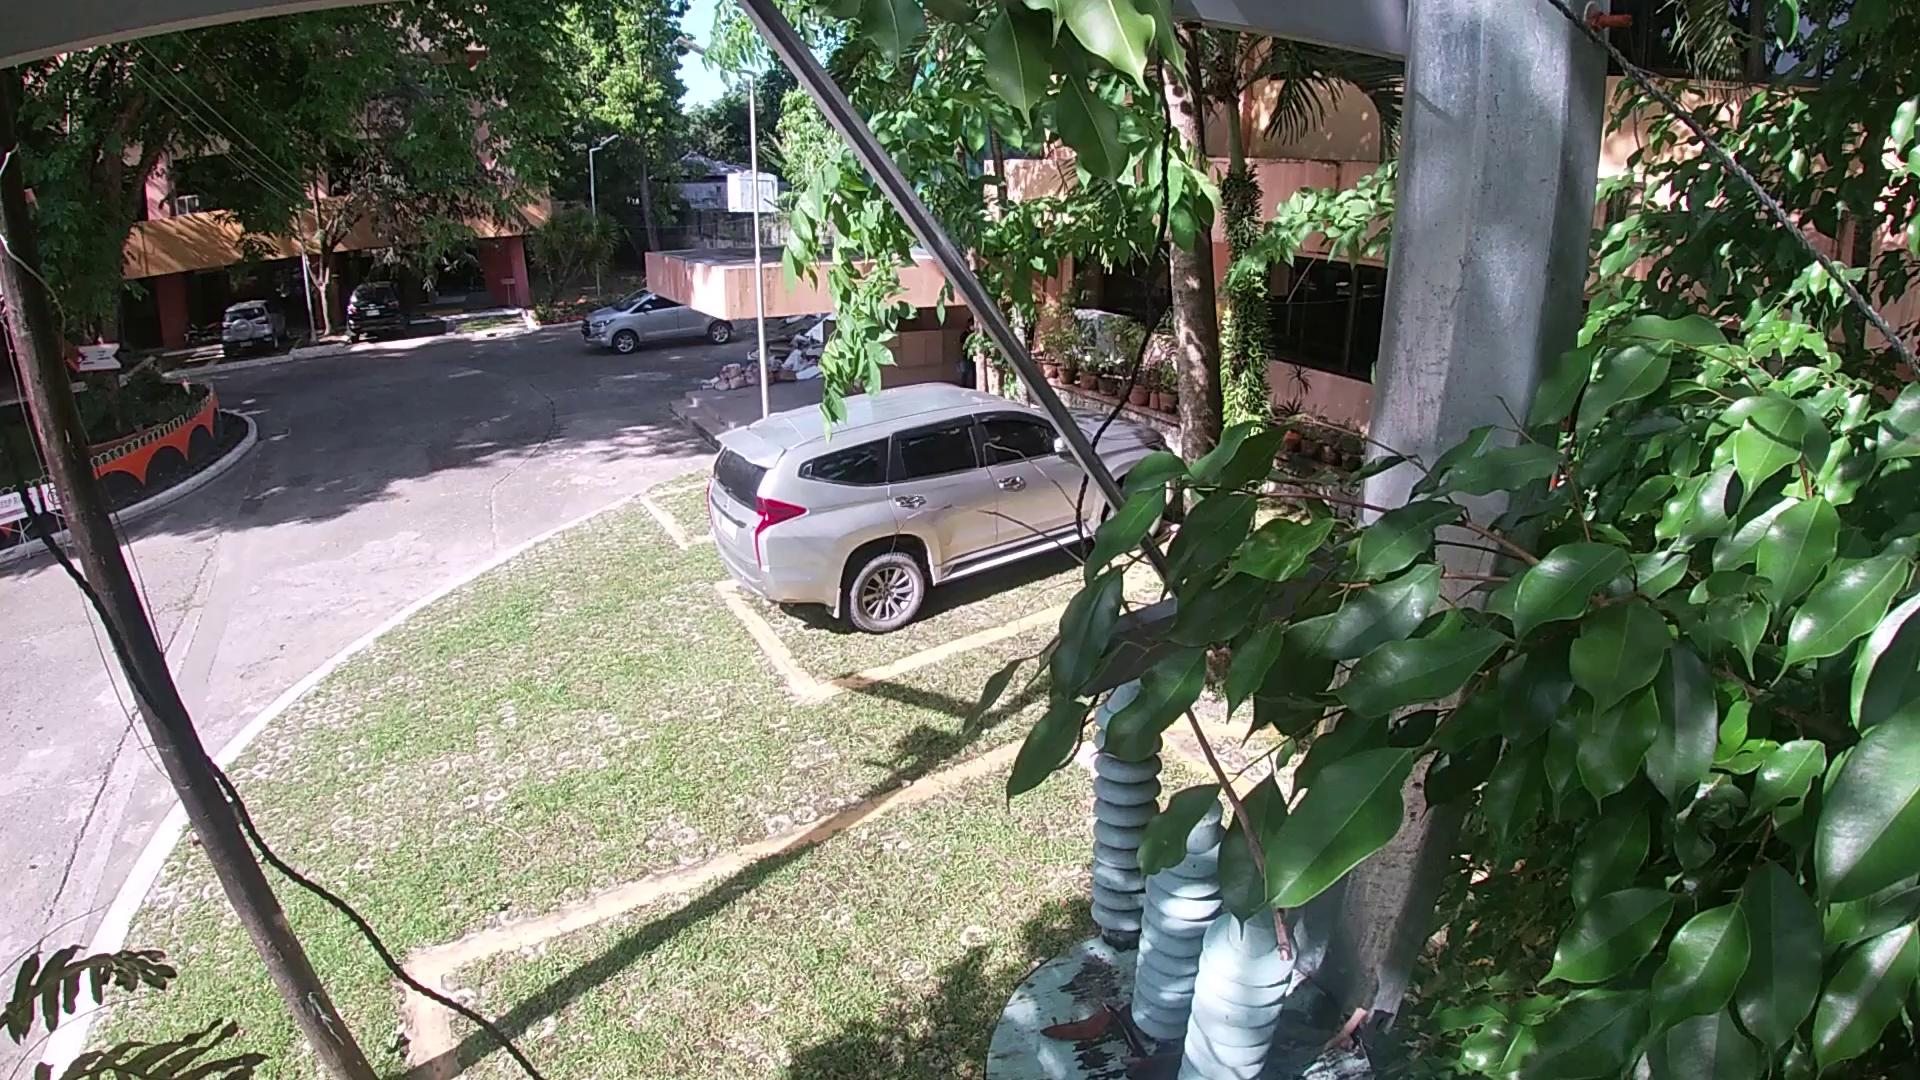mahogany fruit: (1039, 1004, 1120, 1043), (1113, 1048, 1174, 1077)
tree branch: (853, 392, 1309, 965), (1284, 1001, 1377, 1071), (1266, 1021, 1361, 1048)
